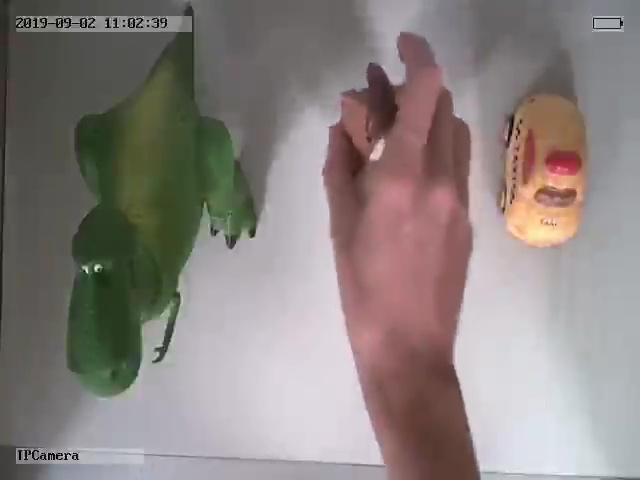car: (497, 90, 590, 249)
rex: (61, 35, 259, 400)
